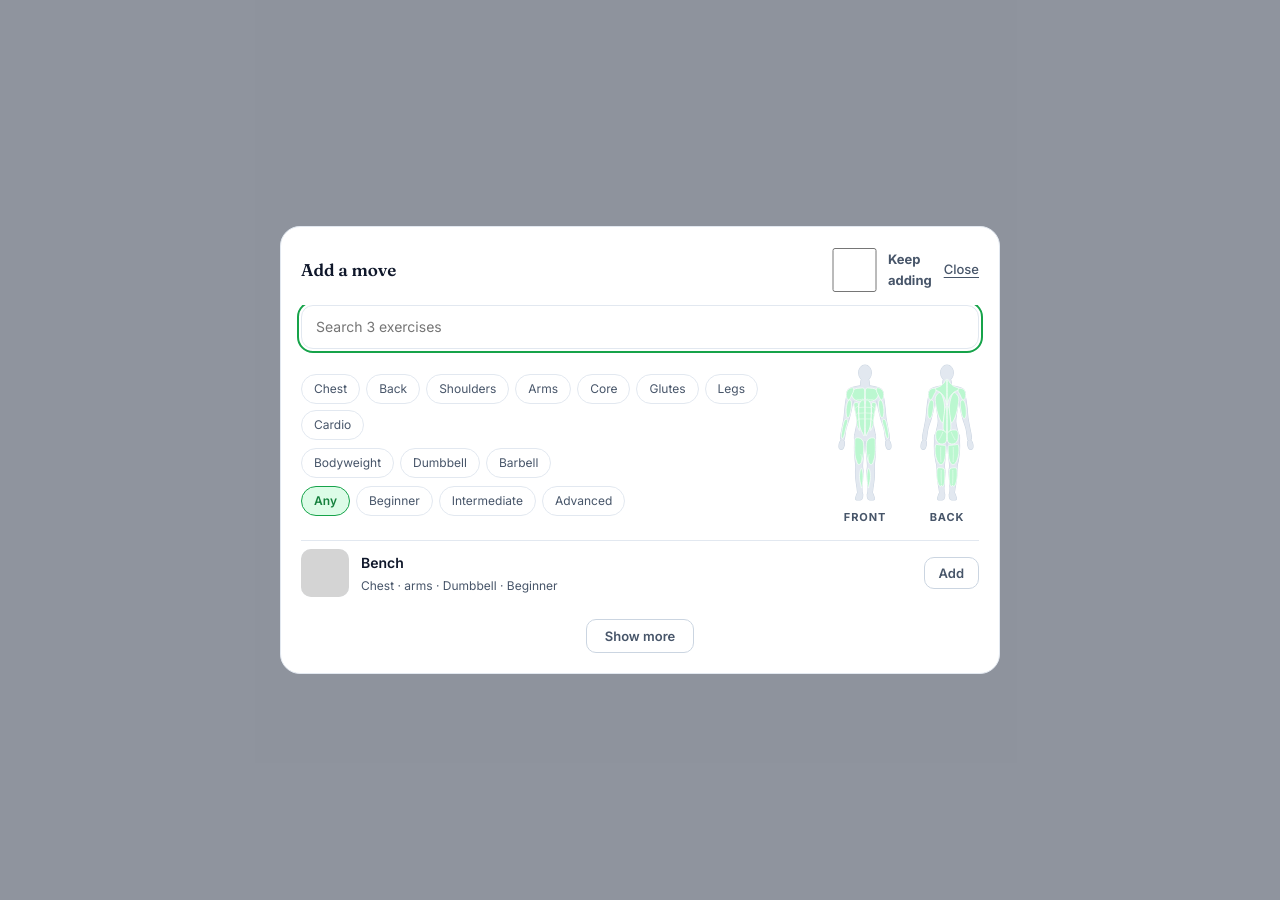
Test case: ExercisePickerComponent › paging and states › shows 20 rows a page and appends the next page on Show more
Expected: the number of list items is 1, 301,540 -> 979,605
Click the button with class "more": x=640, y=636 586,619 -> 694,653
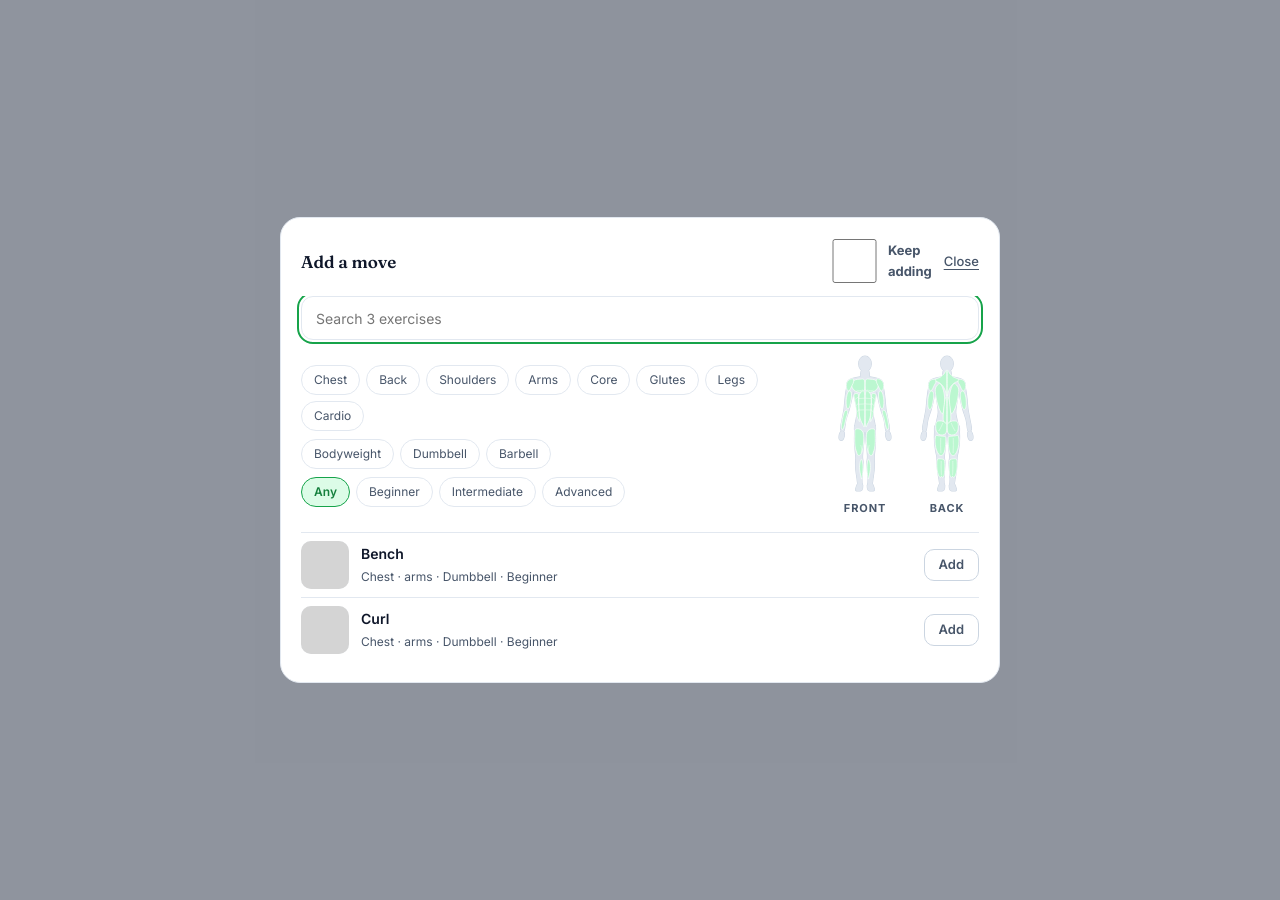
Now the number of list items is 2, box 301,532 -> 979,597; 301,597 -> 979,662
Now the button with class "more" is gone
